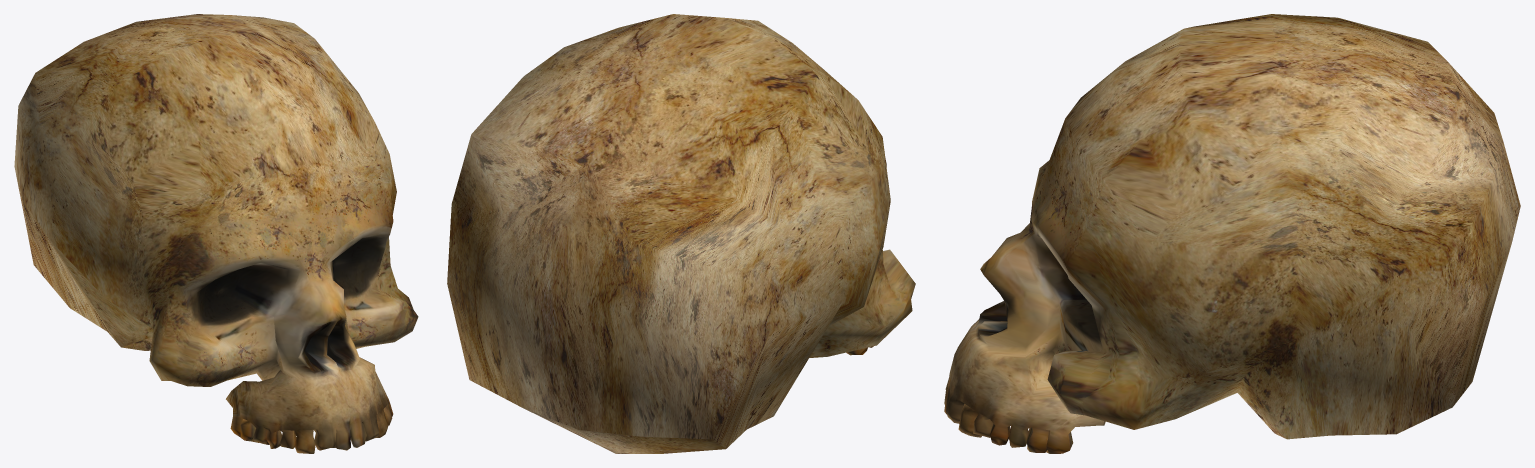
The model's file is Skull.fbx.
3 views of the same model, side by side, from view 1: azimuth 30°, elevation 25°; view 2: azimuth 150°, elevation 25°; view 3: azimuth 270°, elevation 25° (orthographic). The views are drawn at different scales.
Parts seen in each view (by area): view 1: Skull_No_Candle; view 2: Skull_No_Candle; view 3: Skull_No_Candle.
Part boxes in pixels (<box>): Skull_No_Candle: <box>14,14,418,453</box>; Skull_No_Candle: <box>447,14,915,453</box>; Skull_No_Candle: <box>944,14,1520,453</box>.
Size of the model in its own units: 0.2378 by 0.2385 by 0.3301.
